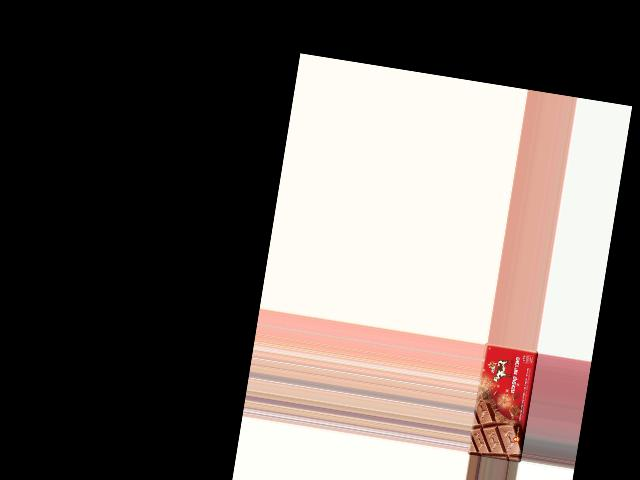chocolate: (468, 342, 538, 462)
